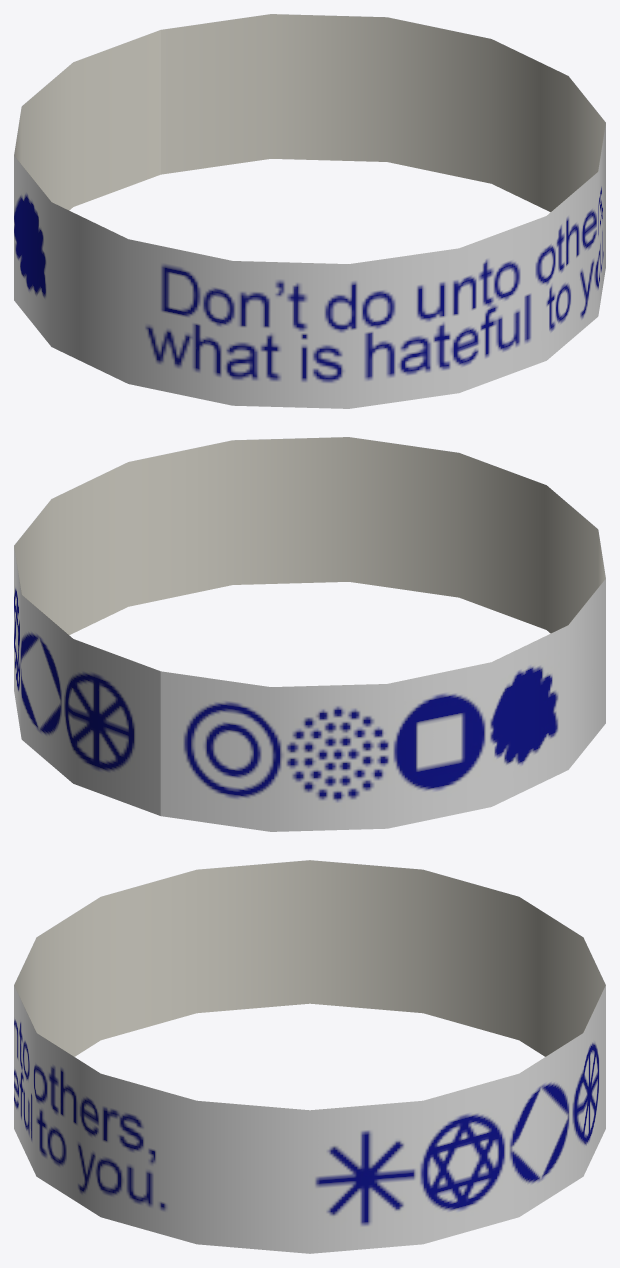
File: FBX_Bracelet.fbx
The picture shows the model from 3 angles, top to bottom: view 1: azimuth 30°, elevation 25°; view 2: azimuth 150°, elevation 25°; view 3: azimuth 270°, elevation 25°; orthographic projection.
Visible parts, largest first — view 1: MESH_Bracelet_English; view 2: MESH_Bracelet_English; view 3: MESH_Bracelet_English.
Part boxes in pixels (x1,y1,x2,y2): MESH_Bracelet_English: (14, 14, 605, 408); MESH_Bracelet_English: (14, 437, 605, 831); MESH_Bracelet_English: (14, 860, 605, 1253).
Size of the model in its own units: 22.78 by 6.09 by 22.78.
